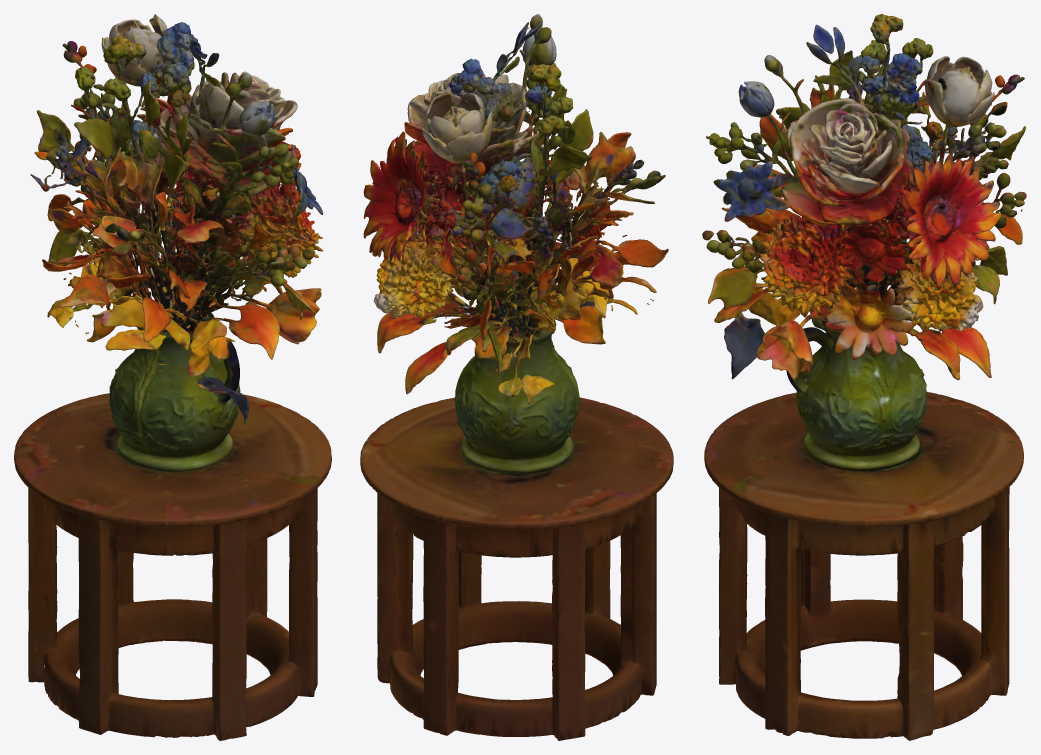
File: garden_whim_flowers-simplified.glb
3 views of the same model, side by side, from view 1: azimuth 30°, elevation 25°; view 2: azimuth 150°, elevation 25°; view 3: azimuth 270°, elevation 25° (orthographic). The views are drawn at different scales.
Visible parts, largest first — view 1: Object_5, Object_6, Object_7, Object_20, Object_19, Object_4, Object_12, Object_13, Object_18, Object_21, Object_17, Object_15 (+7 smaller); view 2: Object_7, Object_5, Object_6, Object_20, Object_4, Object_13, Object_19, Object_12, Object_15, Object_17, Object_18, Object_14 (+7 smaller); view 3: Object_7, Object_6, Object_5, Object_13, Object_15, Object_14, Object_4, Object_8, Object_9, Object_17, Object_16, Object_19 (+7 smaller).
Boxes of the visible parts, x1=… form: Object_5: x1=28, y1=37, x2=331, y2=738; Object_6: x1=17, y1=63, x2=327, y2=740; Object_7: x1=14, y1=20, x2=331, y2=720; Object_20: x1=14, y1=38, x2=298, y2=737; Object_19: x1=23, y1=38, x2=279, y2=738; Object_4: x1=17, y1=14, x2=314, y2=442; Object_12: x1=54, y1=41, x2=285, y2=481; Object_13: x1=30, y1=75, x2=325, y2=706; Object_18: x1=30, y1=35, x2=295, y2=712; Object_21: x1=36, y1=44, x2=316, y2=717; Object_17: x1=62, y1=25, x2=323, y2=710; Object_15: x1=116, y1=17, x2=329, y2=713; Object_7: x1=360, y1=70, x2=659, y2=739; Object_5: x1=365, y1=37, x2=668, y2=683; Object_6: x1=382, y1=27, x2=673, y2=737; Object_20: x1=495, y1=14, x2=667, y2=735; Object_4: x1=373, y1=34, x2=646, y2=557; Object_13: x1=361, y1=96, x2=656, y2=696; Object_19: x1=532, y1=65, x2=648, y2=728; Object_12: x1=492, y1=14, x2=598, y2=485; Object_15: x1=422, y1=73, x2=527, y2=735; Object_17: x1=462, y1=16, x2=567, y2=740; Object_18: x1=494, y1=21, x2=561, y2=736; Object_14: x1=400, y1=80, x2=464, y2=718; Object_7: x1=710, y1=43, x2=1021, y2=735; Object_6: x1=705, y1=60, x2=1026, y2=738; Object_5: x1=704, y1=42, x2=1023, y2=705; Object_13: x1=800, y1=40, x2=1009, y2=740; Object_15: x1=746, y1=69, x2=1009, y2=735; Object_14: x1=767, y1=78, x2=1019, y2=737; Object_4: x1=709, y1=20, x2=1022, y2=447; Object_8: x1=784, y1=73, x2=994, y2=359; Object_9: x1=743, y1=54, x2=990, y2=488; Object_17: x1=706, y1=25, x2=1024, y2=694; Object_16: x1=736, y1=53, x2=1026, y2=717; Object_19: x1=704, y1=17, x2=961, y2=691.
Size of the model in its own units: 0.8504 by 1.9 by 0.8482.
1 material, 1 textured.
